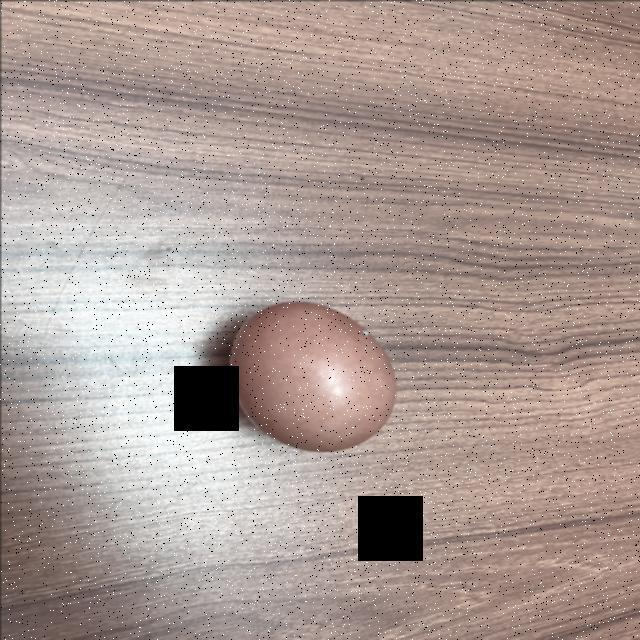egg: (217, 298, 407, 458)
